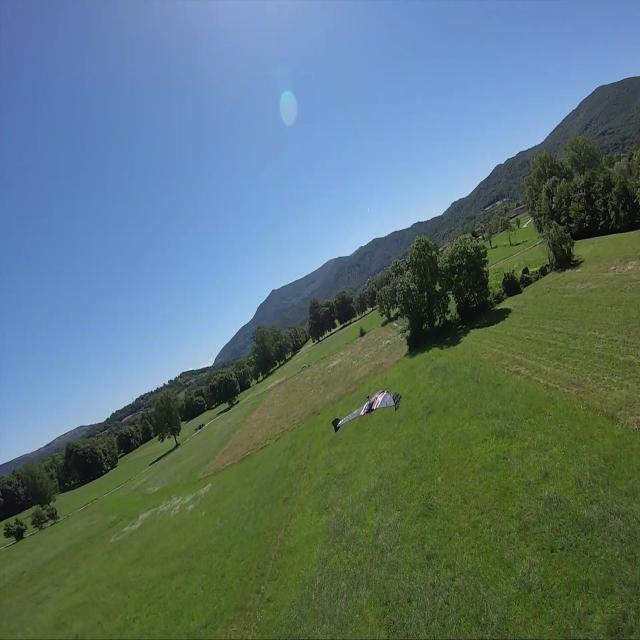iha: (362, 385, 368, 434)
